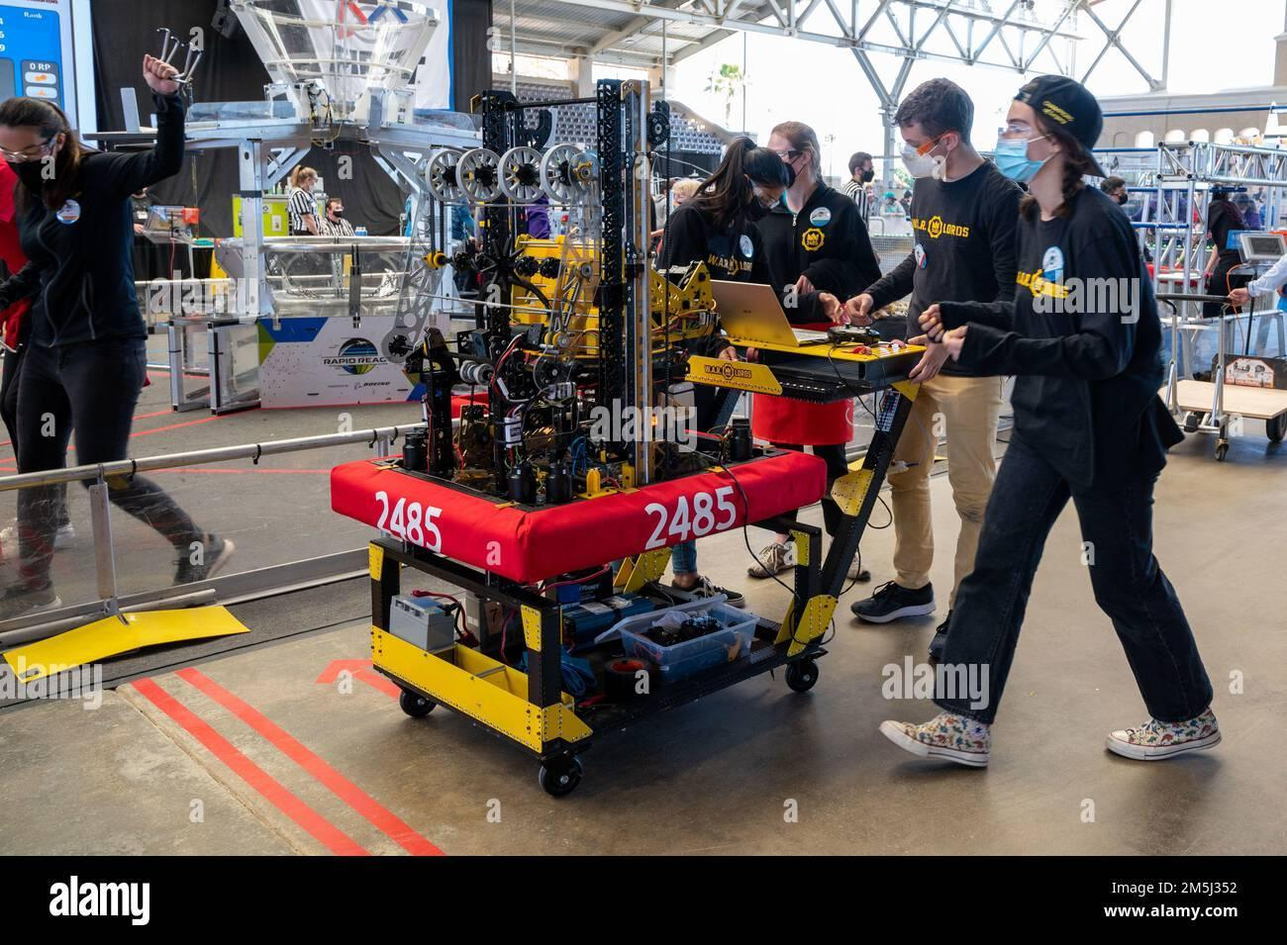robot: (328, 69, 833, 587)
